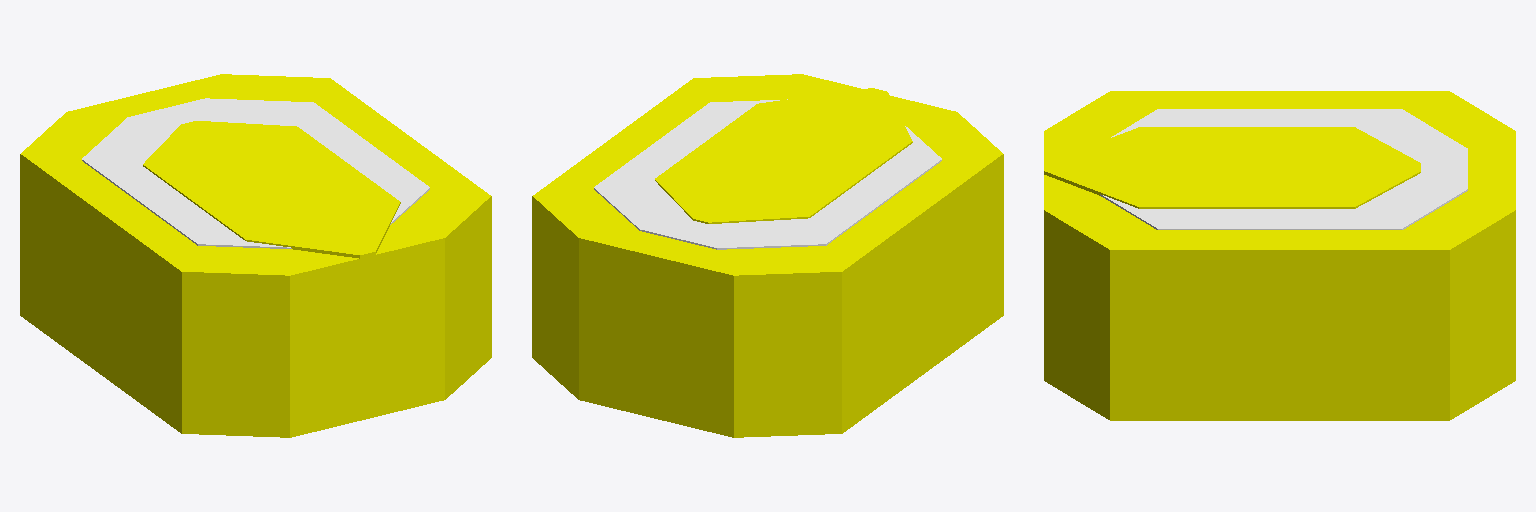
URDF robot description (tamagoyaki):
<?xml version="1.0"?>
<robot name="tamagoyaki"
       xmlns:xi="http://www.w3.org/2001/XInclude">
  <gazebo>
    <static>false</static>
  </gazebo>
  <link name="nil_link">
    <visual>
      <origin xyz="0 0 0" rpy="0 -0 0"/>
      <geometry>
        <mesh filename="model://tamagoyaki/meshes/nil_link_mesh.dae" scale="1 1 1" />
      </geometry>
    </visual>
    <collision>
      <origin xyz="0 0 0" rpy="0 -0 0"/>
      <geometry>
        <mesh filename="model://tamagoyaki/meshes/nil_link_mesh.dae" scale="1 1 1" />
      </geometry>
    </collision>
    <inertial>
      <mass value="0.001" />
      <origin xyz="0 0 0" rpy="0 -0 0"/>
      <inertia ixx="1e-03" ixy="0" ixz="0" iyy="1e-03" iyz="0" izz="1e-03"/>
    </inertial>
  </link>
  <gazebo reference="nil_link">
    <mu1>0.9</mu1>
    <mu2>0.9</mu2>
  </gazebo>
</robot>

--- Facts derived from the render (not from the file) ---
3 views of the same robot in one strip: view 1: azimuth 30°, elevation 25°; view 2: azimuth 150°, elevation 25°; view 3: azimuth 270°, elevation 25° (orthographic).
Robot: tamagoyaki — 1 links, 0 joints (none); root link nil_link; default pose: every joint at zero.
Links seen in each view (by area): view 1: nil_link; view 2: nil_link; view 3: nil_link.
Link boxes in pixels (x1,y1,x2,y2): nil_link: (20,74,491,437); nil_link: (532,74,1003,437); nil_link: (1044,91,1515,420).
Bounding box of the posed robot: 0.04 × 0.05 × 0.0204 m (x, y, z).
1 mesh visuals loaded from 1 distinct referenced files (1 Collada DAE).